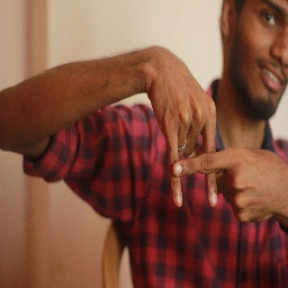H: (140, 110, 252, 228)
